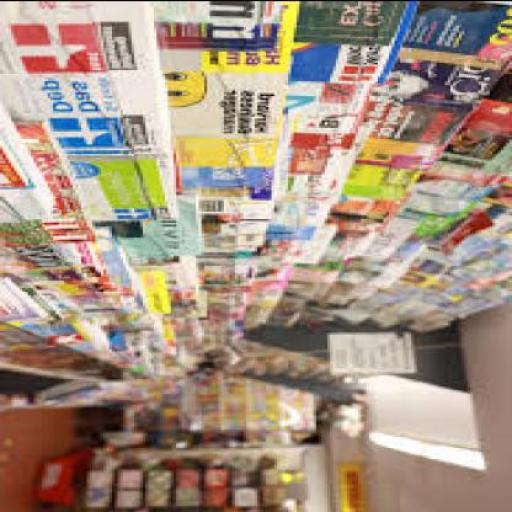paper: (2, 71, 176, 157), (2, 2, 165, 74), (2, 121, 98, 242), (288, 2, 420, 84), (160, 2, 304, 76), (168, 72, 289, 138), (78, 152, 184, 226), (378, 47, 509, 106), (154, 1, 288, 58), (3, 108, 65, 227), (179, 135, 280, 207), (403, 2, 511, 61), (103, 200, 202, 264), (280, 128, 369, 199), (433, 102, 511, 176), (182, 140, 280, 190), (303, 2, 411, 46), (370, 102, 476, 145), (400, 176, 498, 220), (39, 270, 128, 317), (416, 205, 496, 255), (331, 333, 419, 378), (293, 82, 370, 133), (308, 289, 406, 328), (202, 198, 272, 252), (344, 161, 428, 203), (409, 266, 498, 305), (358, 212, 422, 264), (98, 229, 146, 298), (355, 137, 451, 171), (39, 384, 159, 410), (266, 227, 344, 267), (140, 255, 210, 298), (336, 200, 414, 236), (3, 281, 65, 326), (269, 200, 335, 242), (433, 286, 511, 321), (296, 114, 376, 148), (3, 322, 95, 350), (352, 251, 416, 291), (416, 164, 511, 190), (472, 219, 510, 283), (26, 242, 106, 272), (199, 256, 263, 292), (3, 238, 50, 285), (286, 266, 347, 301), (470, 187, 511, 239), (58, 234, 109, 274), (322, 230, 381, 264), (137, 274, 177, 320), (114, 287, 154, 330), (207, 285, 257, 317), (403, 256, 447, 292), (454, 238, 500, 270), (168, 288, 210, 322), (114, 333, 154, 365), (406, 307, 456, 332), (269, 298, 311, 327), (78, 326, 115, 358), (255, 261, 299, 287), (167, 315, 202, 345), (255, 280, 294, 306), (243, 305, 280, 330), (142, 359, 177, 384), (341, 278, 378, 300), (209, 337, 244, 357), (216, 318, 252, 337), (180, 348, 206, 374), (230, 348, 249, 365)
